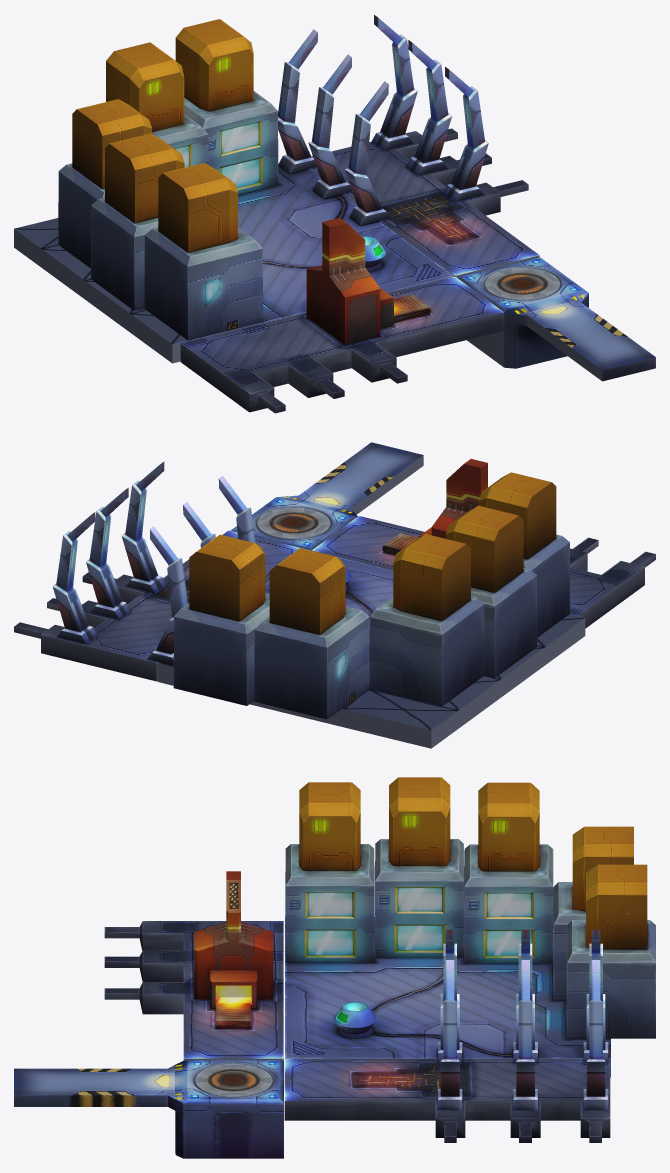
File: Lobby-base.fbx
3 renders of one model, top to bottom at view 1: azimuth 30°, elevation 25°; view 2: azimuth 150°, elevation 25°; view 3: azimuth 270°, elevation 25°, orthographic. The views are drawn at different scales.
Visible parts, largest first — view 1: house floor, workshop floor, house1, mothership dock floor, house5, runway, house2, workshop, house3, house4, mothership dock1, mothership dock3 (+6 smaller); view 2: house3, house4, house5, house floor, house2, mothership dock floor, workshop floor, house1, runway, workshop, mothership dock2, mothership dock6 (+5 smaller); view 3: house floor, mothership dock floor, runway, house1, house2, house3, workshop floor, house5, workshop, house4, mothership dock6, mothership dock2 (+6 smaller).
Part boxes in pixels (x1=…): house floor: x1=14, y1=165, x2=454, y2=363; workshop floor: x1=180, y1=276, x2=503, y2=413; house1: x1=144, y1=163, x2=263, y2=340; mothership dock floor: x1=308, y1=128, x2=539, y2=277; house5: x1=175, y1=19, x2=278, y2=194; runway: x1=457, y1=257, x2=655, y2=381; house2: x1=91, y1=133, x2=184, y2=310; workshop: x1=306, y1=218, x2=431, y2=345; house3: x1=58, y1=99, x2=151, y2=268; house4: x1=106, y1=42, x2=208, y2=167; mothership dock1: x1=345, y1=81, x2=391, y2=225; mothership dock3: x1=308, y1=54, x2=352, y2=198; house3: x1=369, y1=534, x2=484, y2=706; house4: x1=254, y1=548, x2=369, y2=719; house5: x1=173, y1=534, x2=269, y2=705; house floor: x1=157, y1=557, x2=585, y2=748; house2: x1=446, y1=505, x2=536, y2=677; mothership dock floor: x1=14, y1=530, x2=309, y2=681; workshop floor: x1=312, y1=516, x2=655, y2=628; house1: x1=479, y1=472, x2=569, y2=637; runway: x1=230, y1=442, x2=423, y2=550; workshop: x1=382, y1=459, x2=487, y2=554; mothership dock2: x1=121, y1=461, x2=166, y2=593; mothership dock6: x1=52, y1=512, x2=97, y2=644; house floor: x1=285, y1=917, x2=610, y2=1077; mothership dock floor: x1=284, y1=1058, x2=610, y2=1142; runway: x1=14, y1=1060, x2=283, y2=1158; house1: x1=285, y1=782, x2=374, y2=962; house2: x1=375, y1=777, x2=464, y2=957; house3: x1=464, y1=782, x2=553, y2=962; workshop floor: x1=104, y1=921, x2=283, y2=1060; house5: x1=566, y1=864, x2=655, y2=1038; workshop: x1=194, y1=871, x2=273, y2=1028; house4: x1=553, y1=826, x2=633, y2=1000; mothership dock6: x1=583, y1=960, x2=608, y2=1110; mothership dock2: x1=438, y1=960, x2=462, y2=1110.
Bounding box in the file's own units: 12281 × 5361 × 15314.
